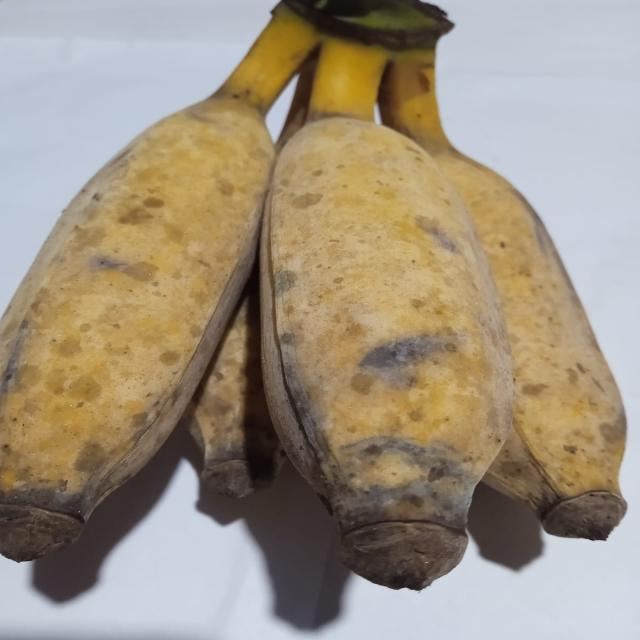banana: (0, 6, 317, 560), (261, 39, 513, 589), (381, 48, 626, 539), (184, 274, 285, 497), (185, 274, 284, 497)
